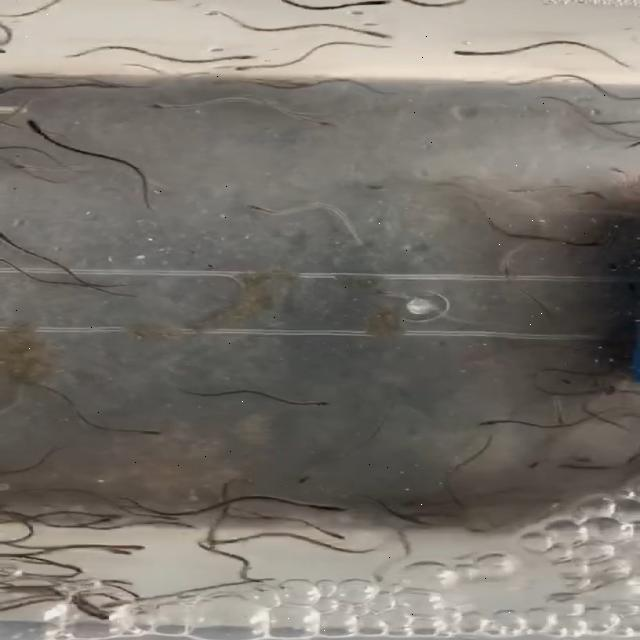active_glass_eel: (442, 512, 489, 534), (228, 56, 286, 72), (562, 230, 612, 248), (359, 570, 409, 586), (104, 539, 152, 555), (135, 98, 183, 114), (299, 392, 333, 414), (88, 598, 134, 614), (38, 536, 74, 556), (88, 507, 122, 528), (289, 115, 341, 128), (12, 118, 60, 132), (306, 527, 354, 541), (1, 162, 42, 178), (604, 128, 640, 146), (140, 419, 172, 439), (68, 558, 121, 570), (0, 67, 38, 83), (210, 532, 247, 548), (550, 407, 578, 428), (314, 496, 346, 514), (452, 488, 486, 504), (223, 515, 257, 531), (284, 78, 328, 90), (235, 200, 268, 216), (473, 415, 502, 433), (605, 91, 640, 105), (501, 184, 536, 198), (521, 454, 551, 470), (232, 52, 262, 68), (286, 476, 320, 490), (606, 430, 632, 448), (504, 261, 528, 280), (357, 27, 401, 37), (0, 85, 39, 96), (443, 44, 478, 56), (0, 228, 22, 244), (366, 0, 394, 12), (605, 165, 631, 177), (354, 182, 380, 192)
